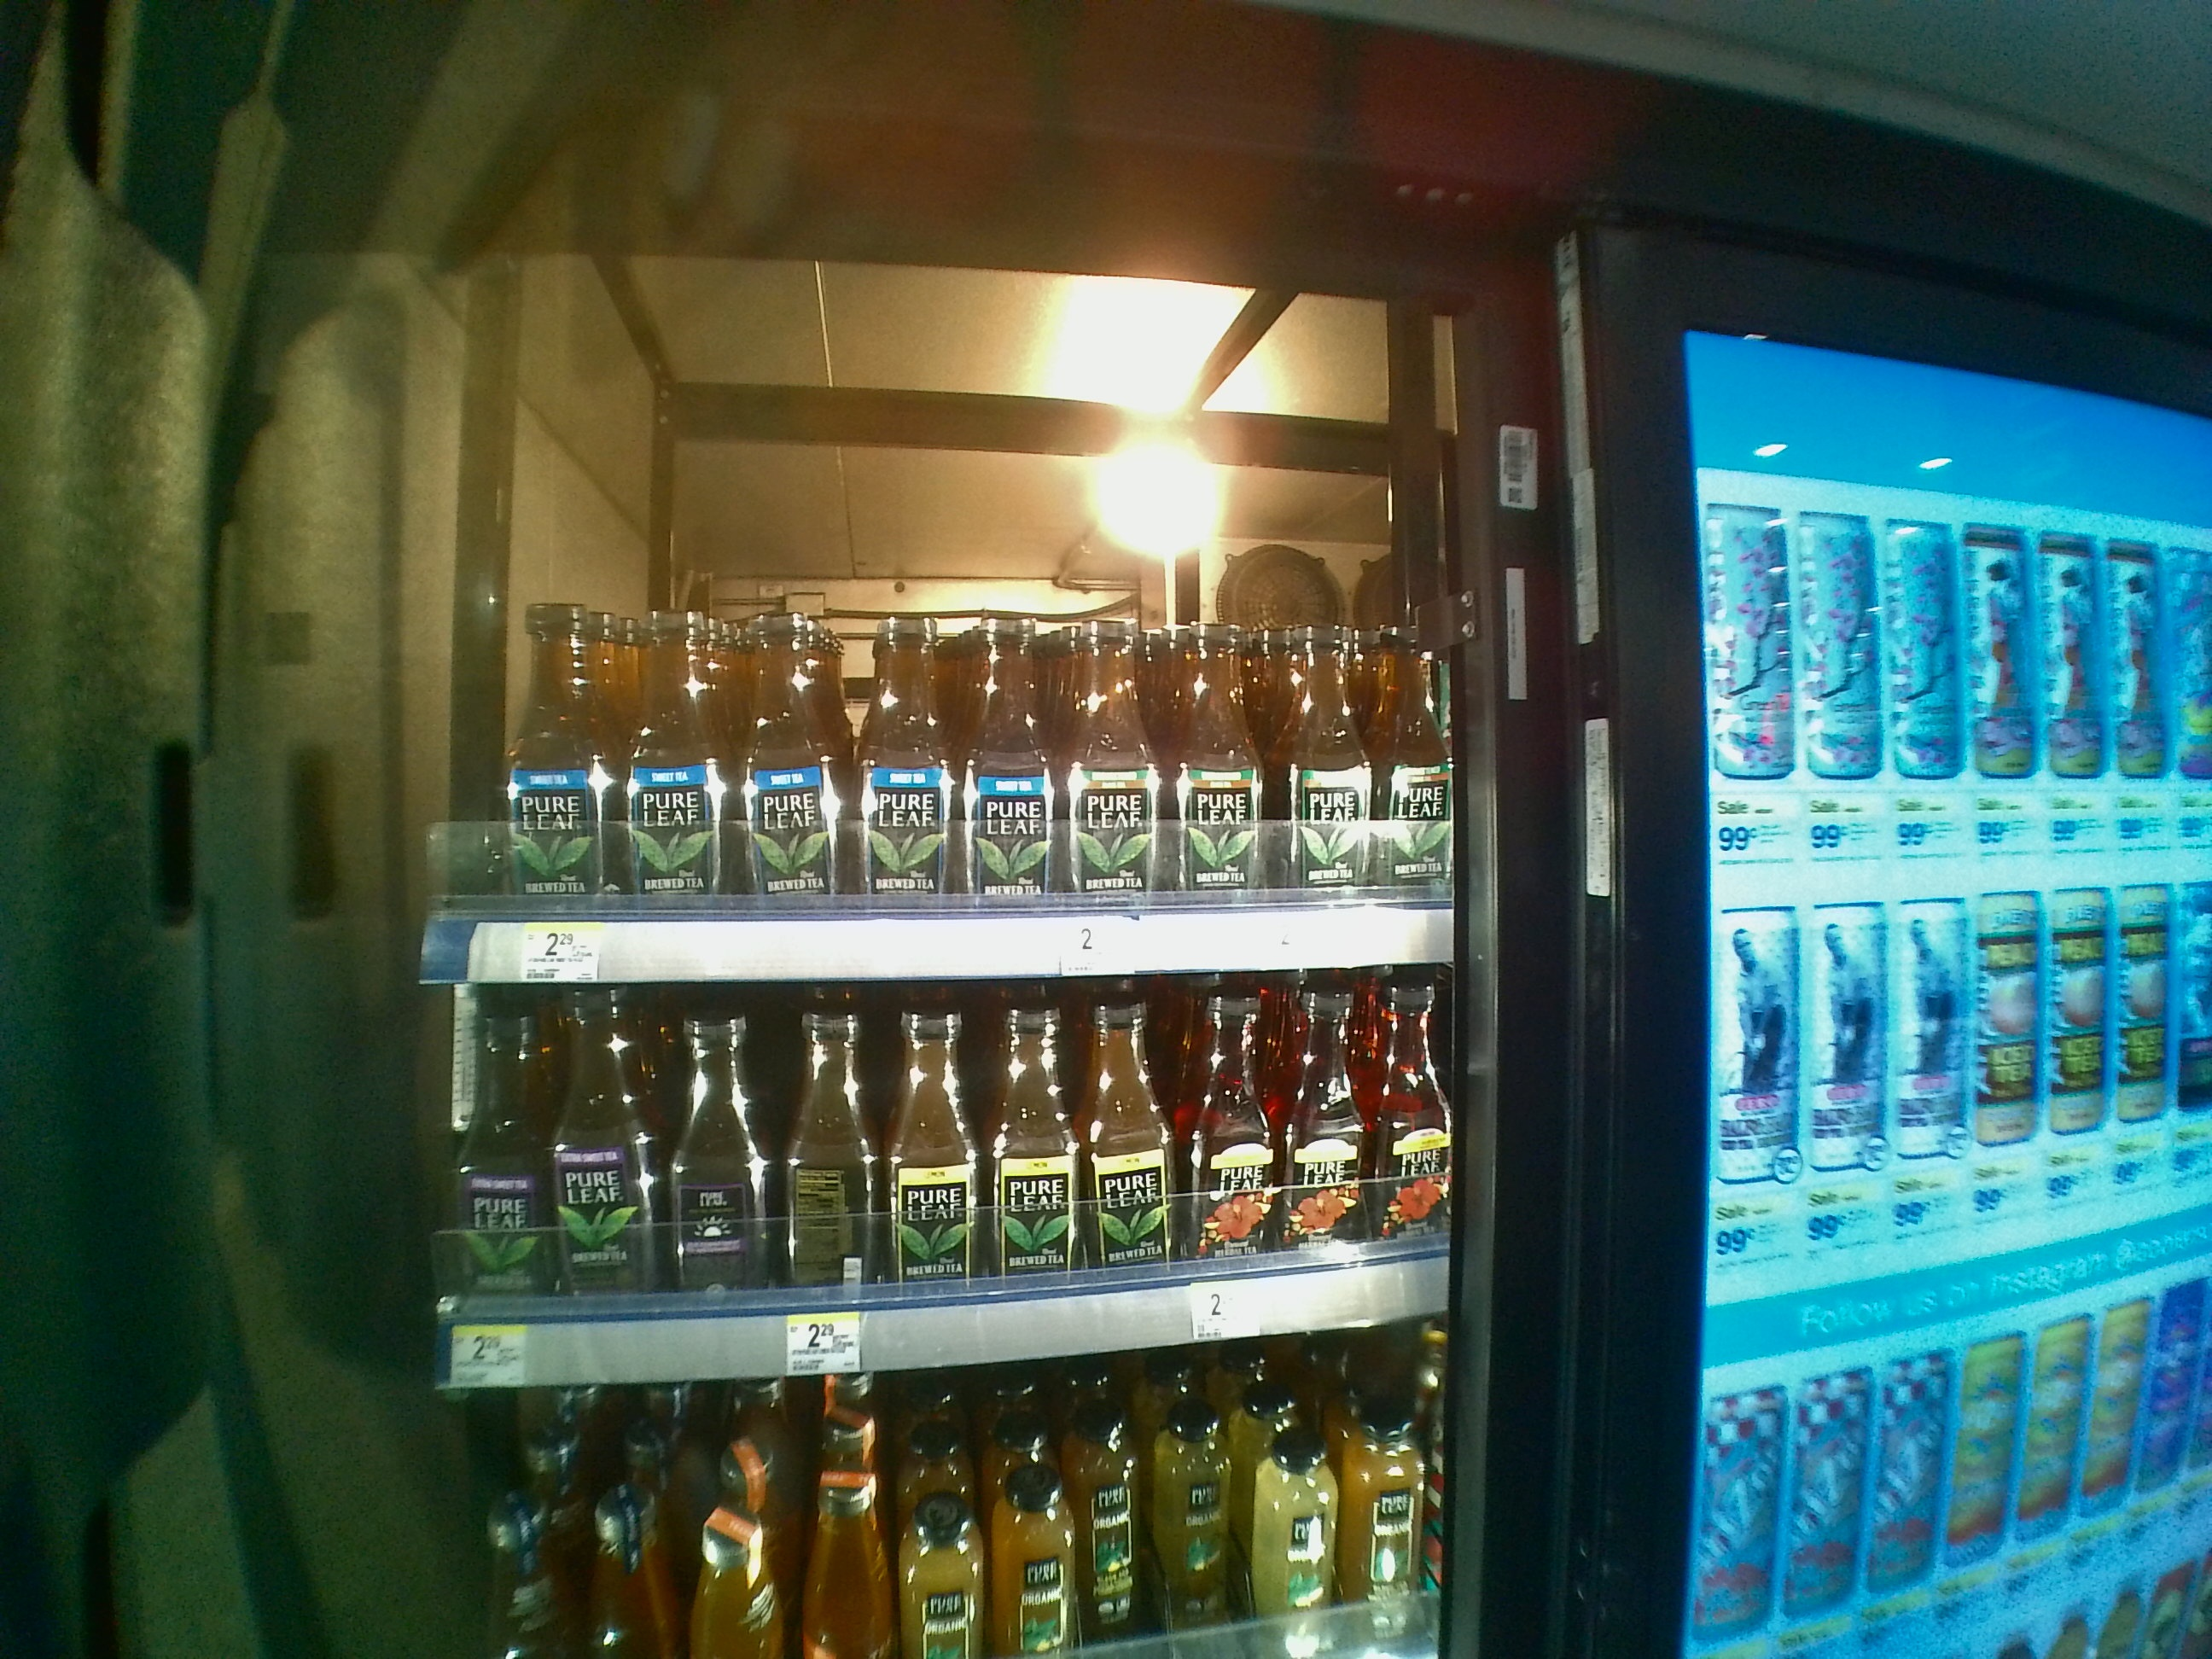shelf: (421, 310, 1456, 983), (428, 997, 1458, 1396)
